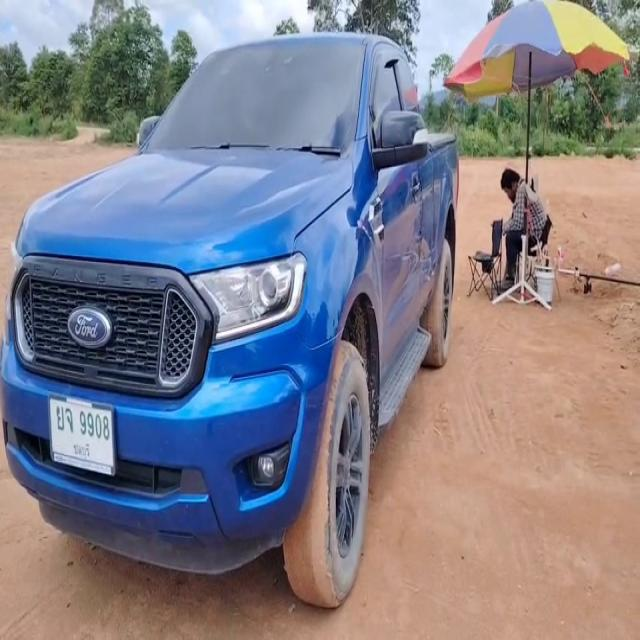Digit: (78, 409, 110, 442)
Licenseplate: (49, 396, 115, 476)
Provincename: (72, 440, 91, 460)
Thaichar: (56, 404, 74, 435)
